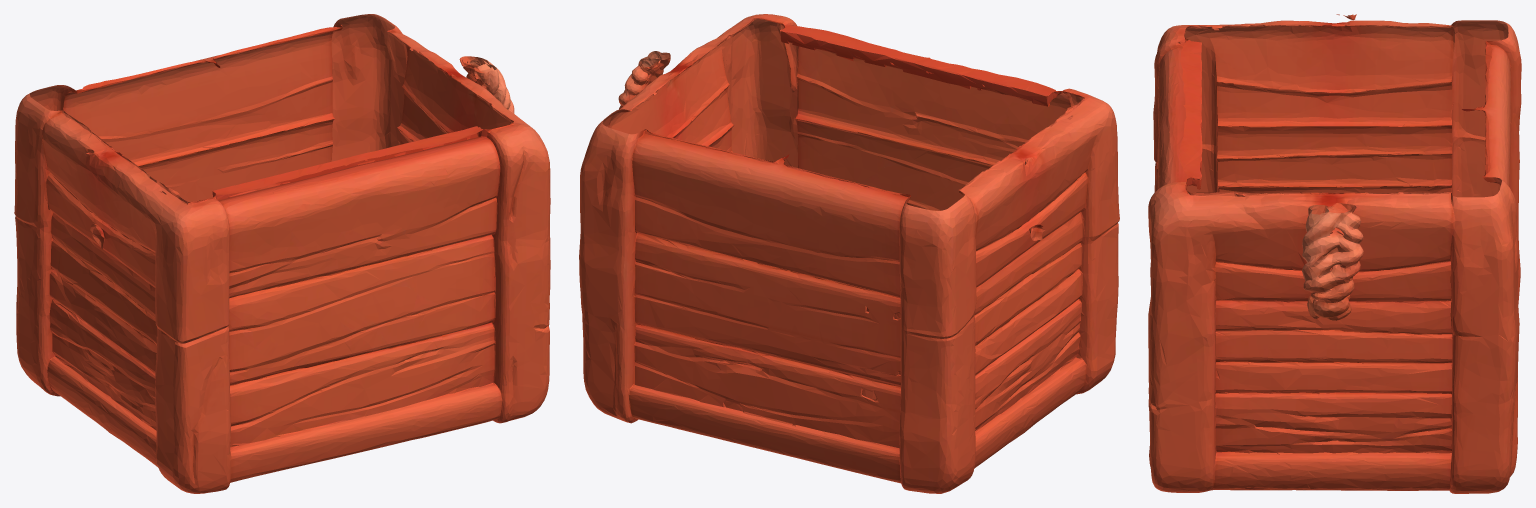
Rendered from body.glb.
3 renders of one model, left to right at view 1: azimuth 30°, elevation 25°; view 2: azimuth 150°, elevation 25°; view 3: azimuth 270°, elevation 25°, orthographic. The views are drawn at different scales.
Visible parts, largest first — view 1: source_surface_0; view 2: source_surface_0; view 3: source_surface_0.
Part boxes in pixels (x1,y1,x2,y2): source_surface_0: [14, 14, 550, 493]; source_surface_0: [579, 14, 1119, 493]; source_surface_0: [1148, 14, 1521, 493].
Bounding box in the file's own units: 0.1656 × 0.1105 × 0.1238.
1 material, 1 textured.
